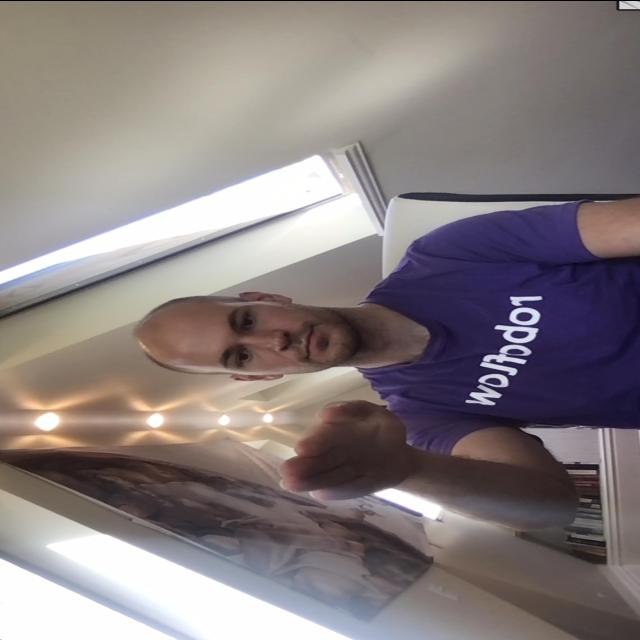Paper: (269, 394, 422, 508)
